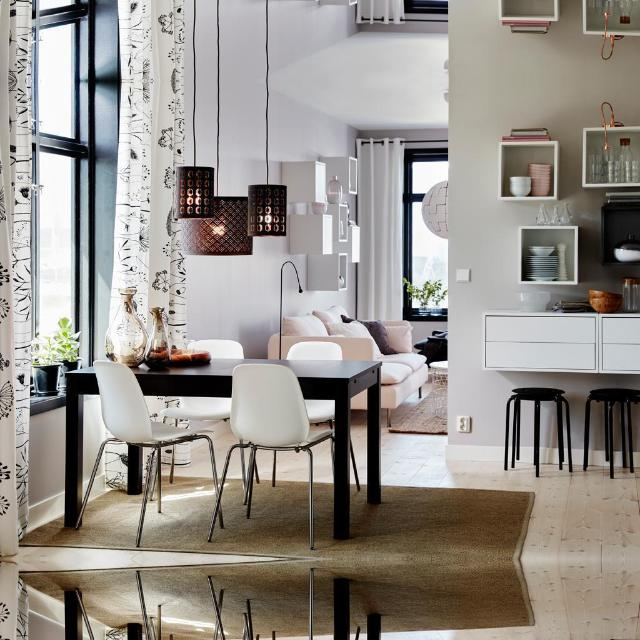chair: (75, 360, 219, 546), (208, 364, 334, 548)
light: (184, 80, 252, 254), (248, 80, 286, 235), (174, 164, 214, 218), (192, 80, 196, 157), (192, 3, 196, 80)
rug: (20, 476, 534, 557), (20, 559, 534, 640)
table: (65, 358, 381, 538)
